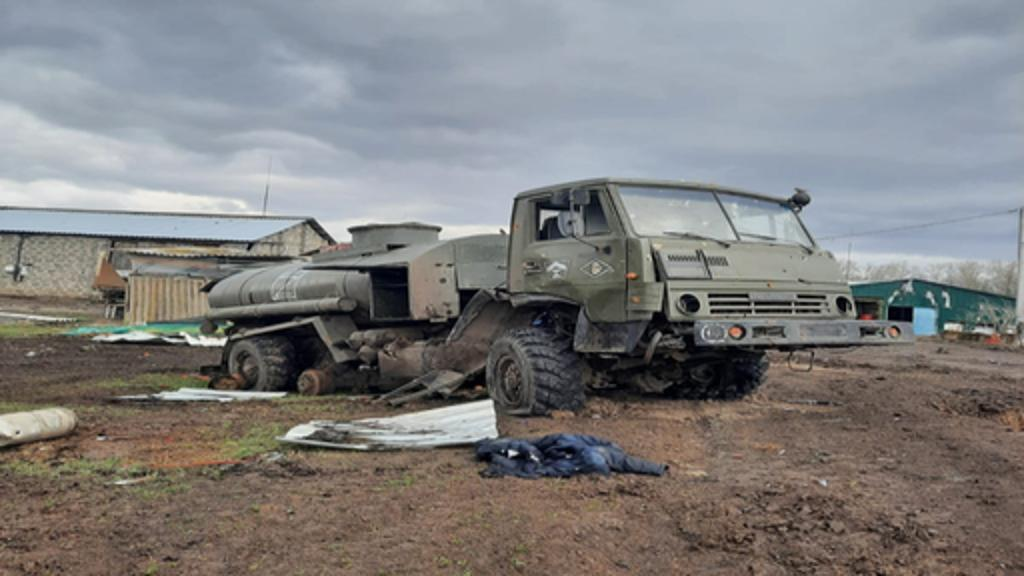TRUCK: (200, 168, 858, 408)
